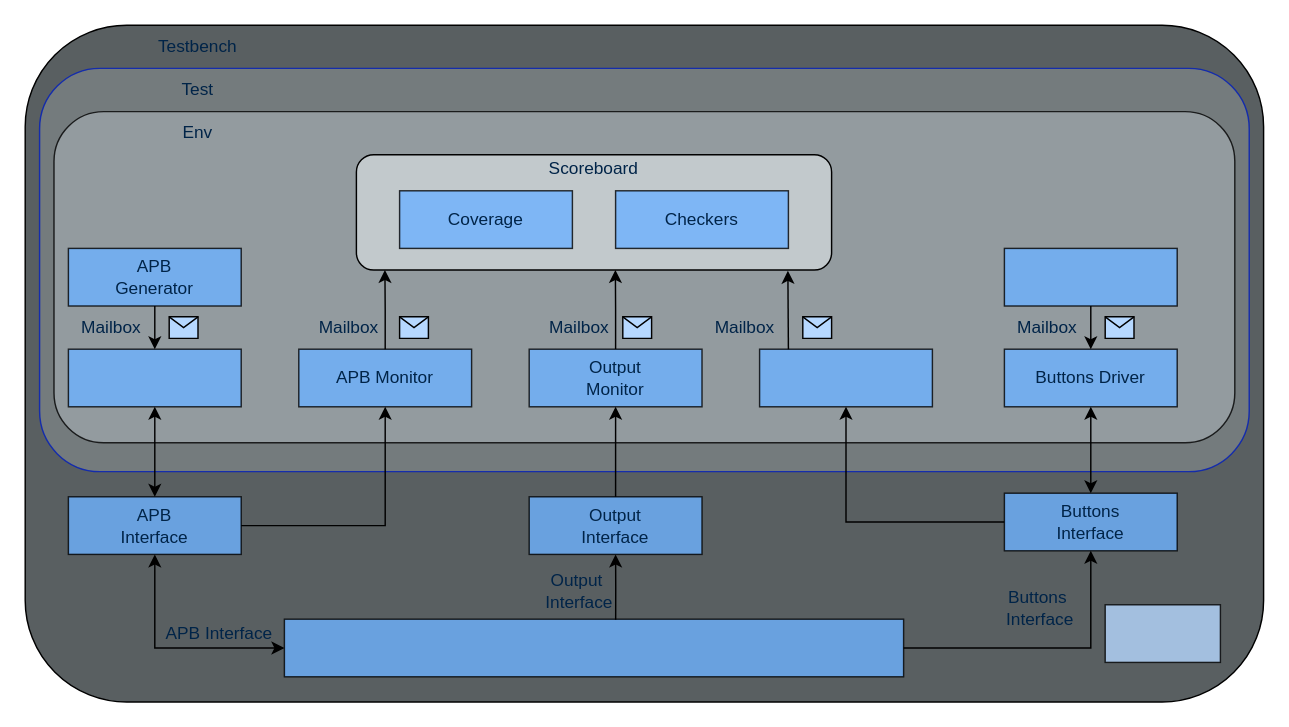
Some shapes in this 1289 by 727 pixel diagram are drawn without their labels. The centre of each missing label's shape, as x and y in pixels:
"APB Driver" belongs at [154,377].
"Buttons Generator" belongs at [1090,276].
"Buttons Monitor" belongs at [845,377].
"Clock and Reset Generator" belongs at [1162,632].
"DUT" belongs at [593,647].
